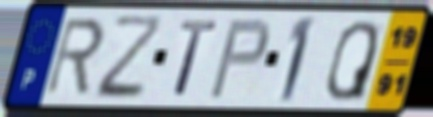1: (281, 15, 318, 105)
P: (206, 17, 273, 102)
Q: (324, 18, 381, 103)
R: (43, 15, 107, 97)
T: (171, 18, 221, 98)
Z: (94, 13, 167, 102)
